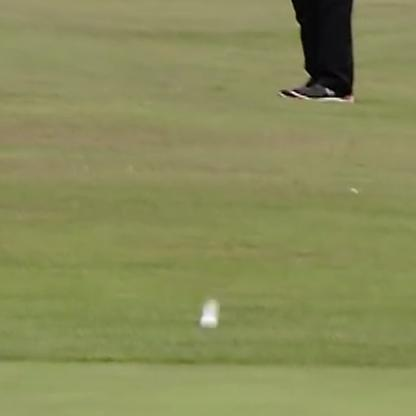golfball: (197, 299, 219, 327)
